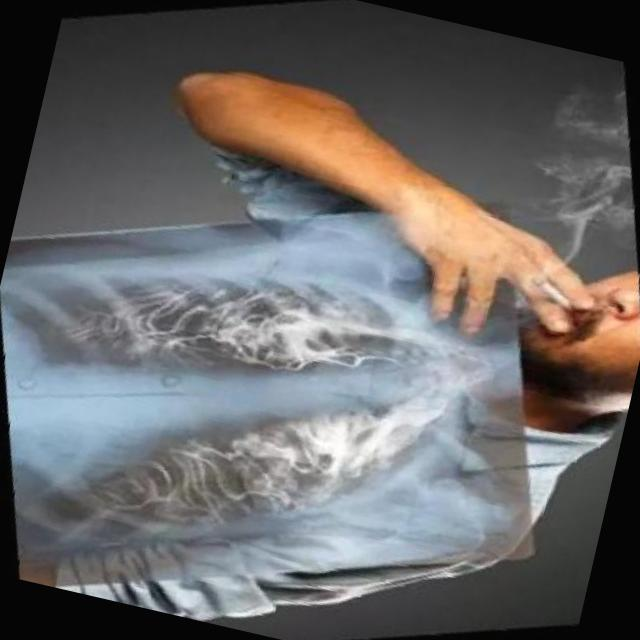cigarette: (517, 260, 582, 325)
